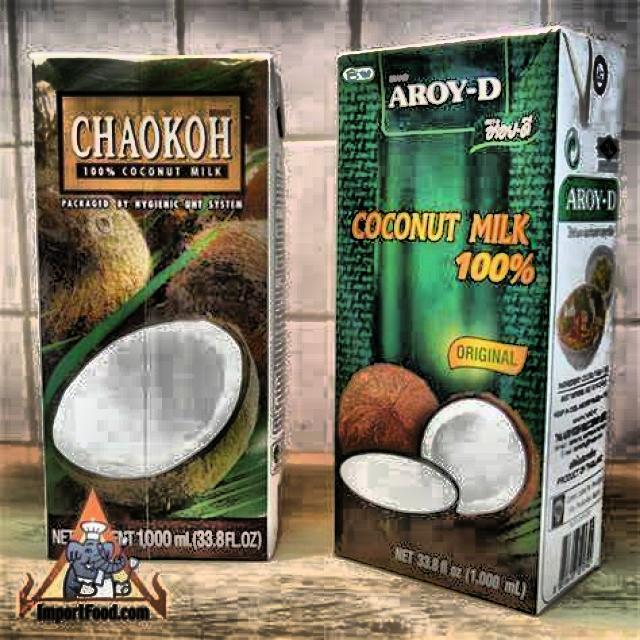cardboard: (332, 23, 625, 616), (28, 51, 285, 561)
